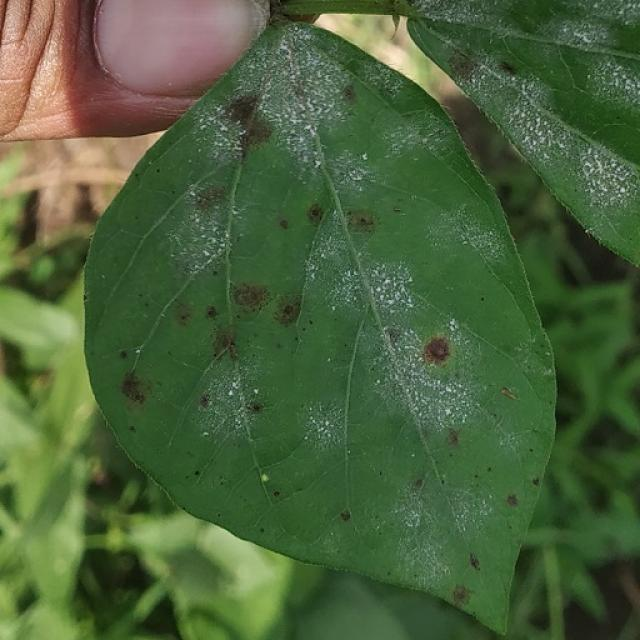Blackgram: (85, 24, 552, 630)
Powdery_Mildew: (487, 61, 629, 230), (251, 36, 346, 176), (392, 317, 487, 432), (379, 339, 482, 430), (507, 92, 593, 168), (564, 52, 640, 126), (447, 203, 517, 273), (169, 192, 228, 274), (193, 362, 249, 443), (440, 482, 494, 544), (550, 13, 631, 52), (575, 142, 628, 198), (413, 1, 501, 33), (302, 403, 340, 449), (372, 269, 414, 310), (581, 220, 622, 254), (581, 158, 609, 183), (448, 319, 457, 330), (313, 159, 322, 168), (202, 249, 211, 257), (361, 152, 369, 161), (253, 387, 259, 395), (324, 419, 330, 427), (228, 389, 234, 397), (134, 348, 141, 354), (202, 431, 209, 437), (331, 305, 336, 311), (376, 379, 381, 384), (410, 452, 415, 457)
